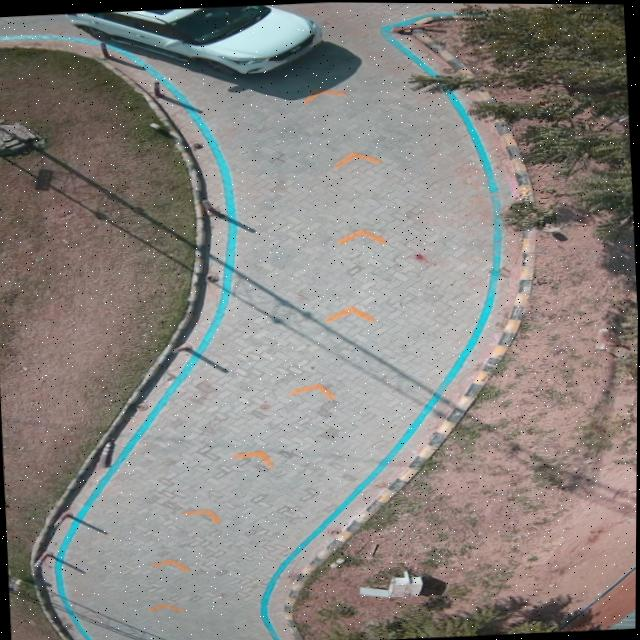car: (66, 4, 323, 73)
